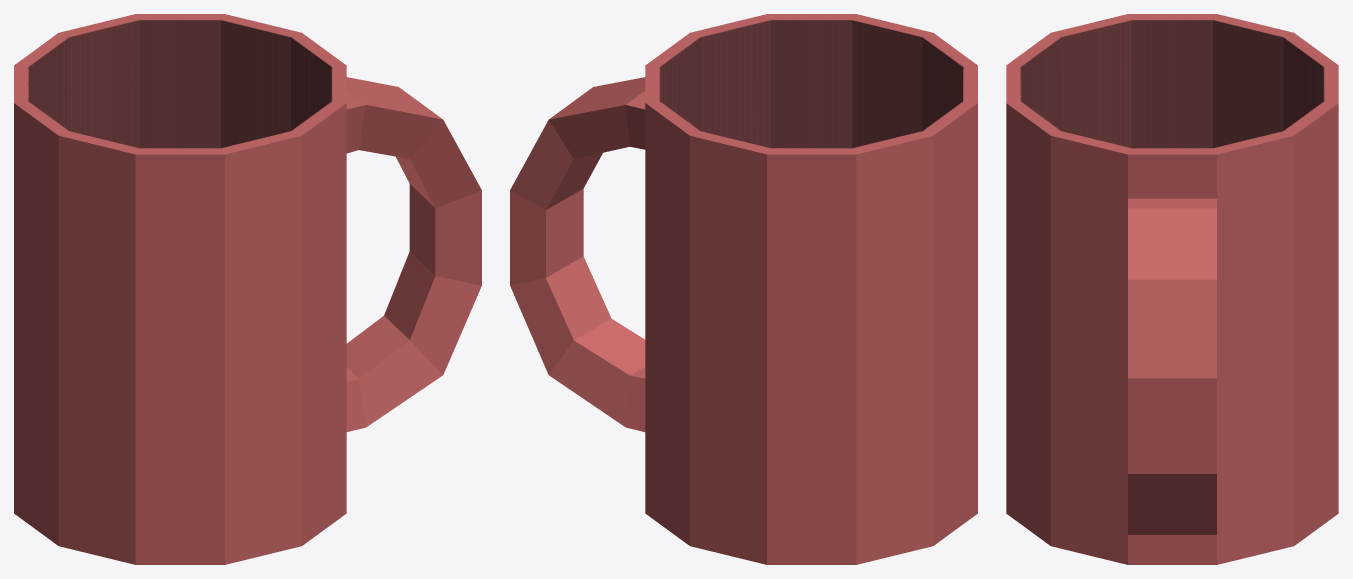
Rendered from Mug_Red.fbx.
The picture shows the model from 3 angles, left to right: view 1: azimuth 30°, elevation 25°; view 2: azimuth 150°, elevation 25°; view 3: azimuth 270°, elevation 25°; orthographic projection.
Visible parts, largest first — view 1: Mug.004; view 2: Mug.004; view 3: Mug.004.
Boxes of the visible parts, box(x1,y1,x2,y2) form: Mug.004: box(14, 14, 481, 564); Mug.004: box(510, 14, 977, 564); Mug.004: box(1006, 14, 1338, 564).
Size of the model in its own units: 10.79 by 10 by 7.34.
